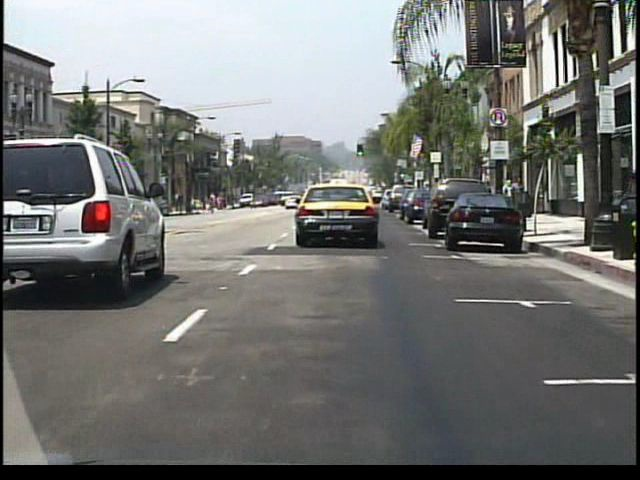person: (510, 175, 526, 221), (500, 179, 513, 215), (226, 195, 233, 211)
